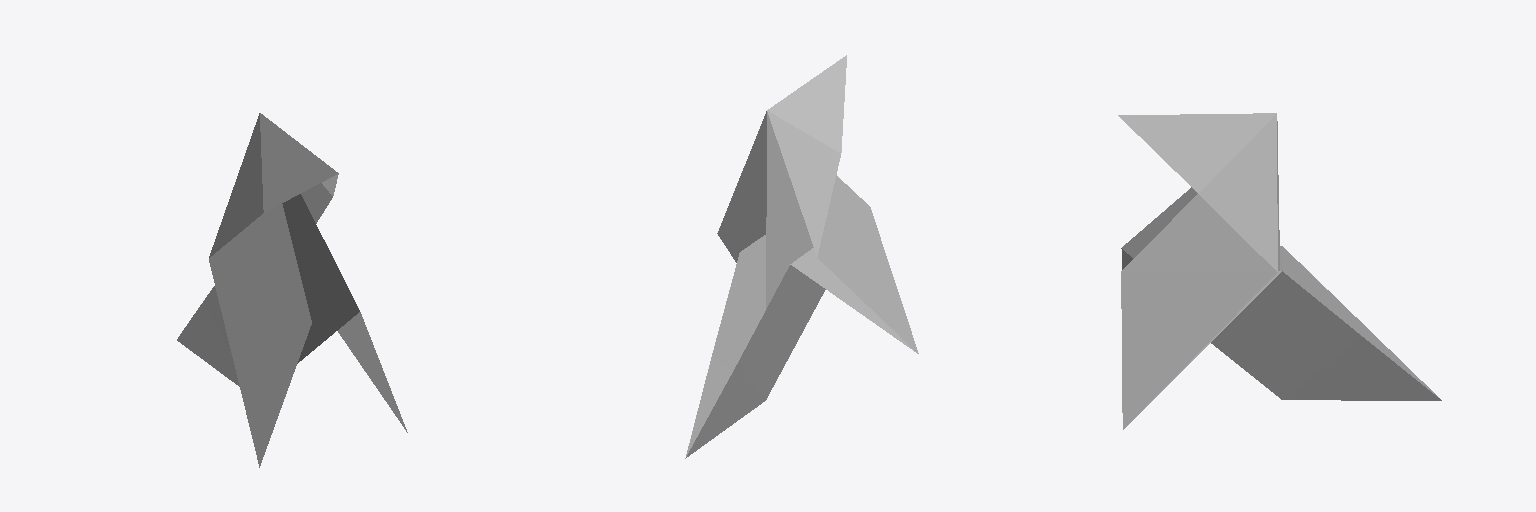
The model's file is PaperBird.obj.
3 renders of one model, left to right at view 1: azimuth 30°, elevation 25°; view 2: azimuth 150°, elevation 25°; view 3: azimuth 270°, elevation 25°, orthographic.
Visible parts, largest first — view 1: MyPaperBird; view 2: MyPaperBird; view 3: MyPaperBird.
Boxes of the visible parts, x1,y1,x2,y2 form: MyPaperBird: [177, 113, 407, 467]; MyPaperBird: [685, 55, 918, 458]; MyPaperBird: [1118, 113, 1441, 429].
Bounding box in the file's own units: 0.5286 × 0.9859 × 1.01.